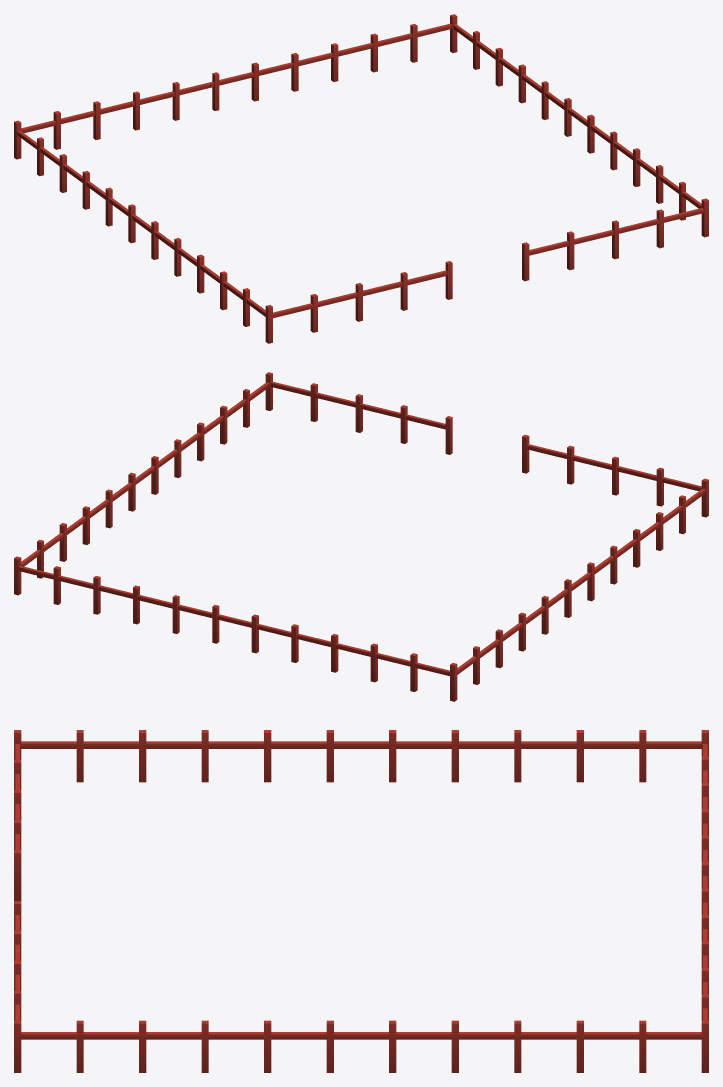
Rendered from wall_EA_0.glb.
The picture shows the model from 3 angles, top to bottom: view 1: azimuth 30°, elevation 25°; view 2: azimuth 150°, elevation 25°; view 3: azimuth 270°, elevation 25°; orthographic projection. The views are drawn at different scales.
Parts seen in each view (by area): view 1: Body; view 2: Body; view 3: Body.
Boxes of the visible parts, left/top/right/bottom form: Body: left=14, top=14, right=708, bottom=343; Body: left=14, top=372, right=708, bottom=701; Body: left=14, top=730, right=708, bottom=1072.
Bounding box in the file's own units: 5.76 × 0.45 × 5.76.
1 material, 1 textured.
